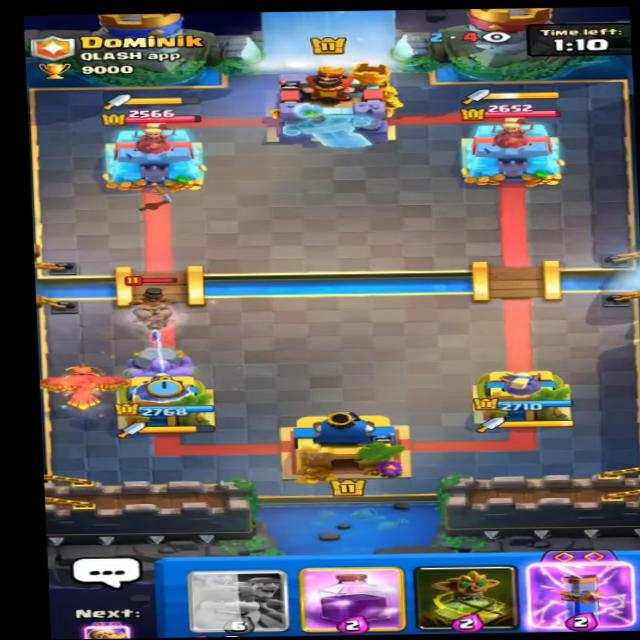ram-rider: (126, 281, 181, 332)
